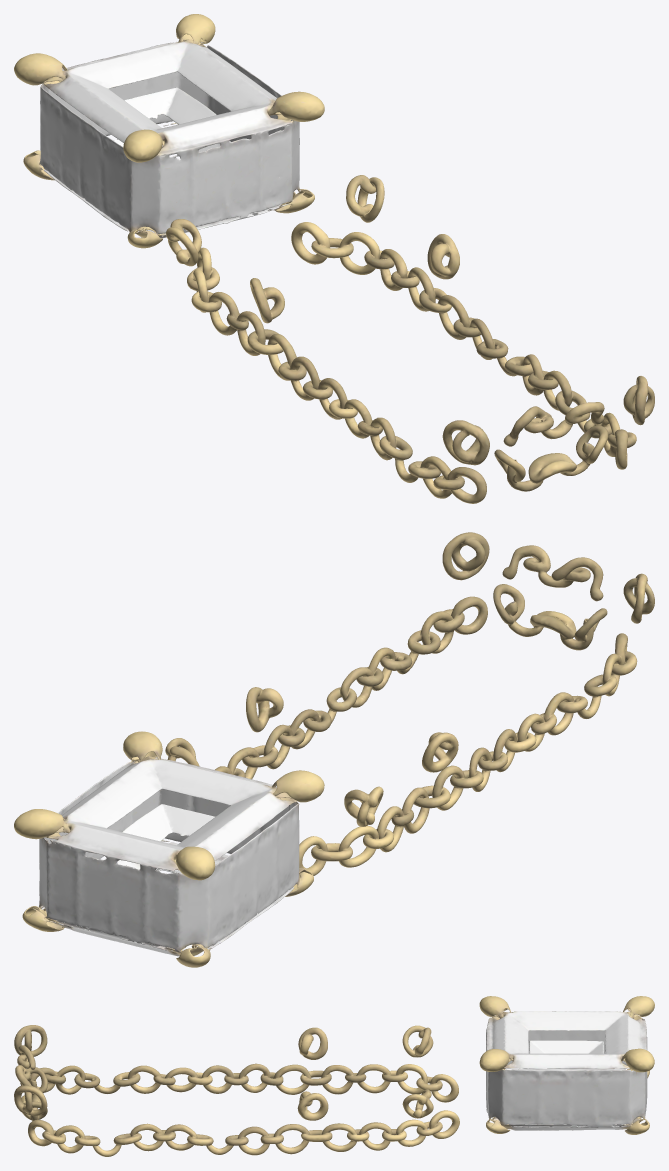
File: bluenile.glb
3 views of the same model, one above another, from view 1: azimuth 30°, elevation 25°; view 2: azimuth 150°, elevation 25°; view 3: azimuth 270°, elevation 25° (orthographic). The views are drawn at different scales.
Visible parts, largest first — view 1: geometry_0; view 2: geometry_0; view 3: geometry_0.
Boxes of the visible parts, x1,y1,x2,y2 form: geometry_0: (14, 14, 654, 503); geometry_0: (14, 532, 654, 967); geometry_0: (14, 996, 654, 1156).
Size of the model in its own units: 0.2647 by 0.1729 by 0.9961.
1 material, 1 textured.
